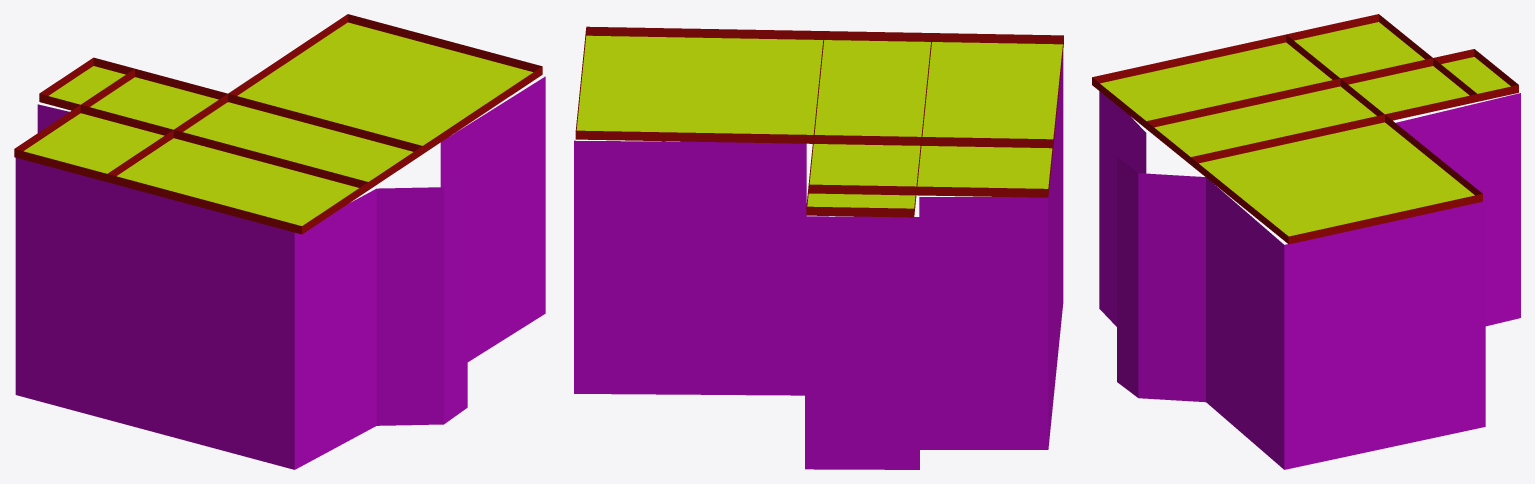
The model's file is bgj_169.glb.
3 renders of one model, left to right at view 1: azimuth 30°, elevation 25°; view 2: azimuth 150°, elevation 25°; view 3: azimuth 270°, elevation 25°, orthographic. The views are drawn at different scales.
Parts seen in each view (by area): view 1: bgj_169; view 2: bgj_169; view 3: bgj_169.
Part boxes in pixels (x1,y1,x2,y2): bgj_169: (14, 14, 545, 469); bgj_169: (574, 26, 1063, 469); bgj_169: (1092, 14, 1520, 469).
Bounding box in the file's own units: 21.01 × 10.25 × 17.08.
